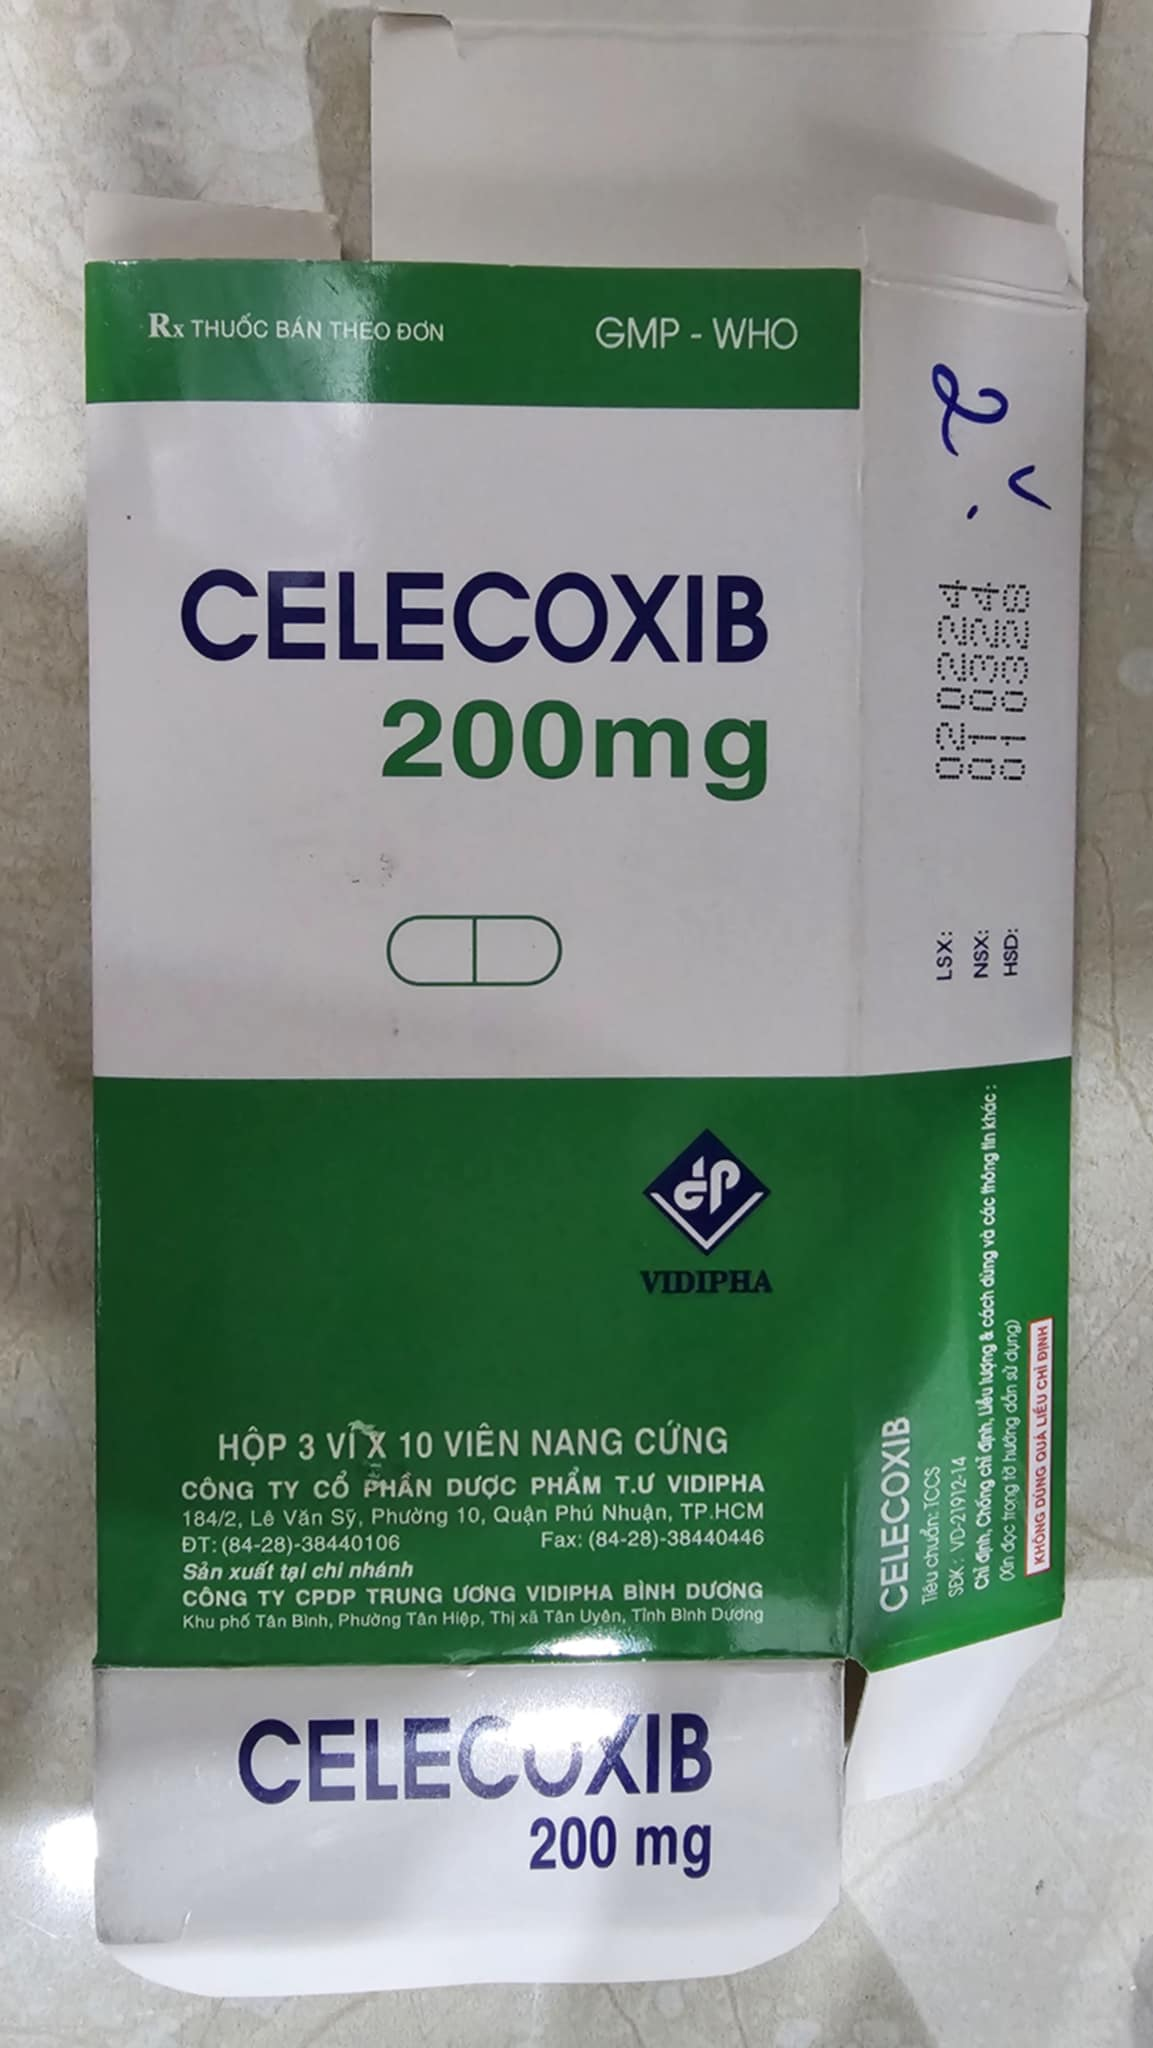Celecoxip: (155, 543, 799, 677)
